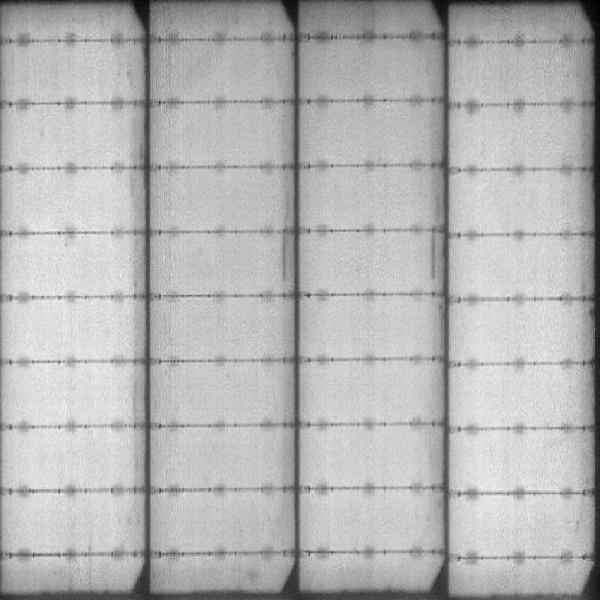scratch: (427, 234, 441, 280), (279, 235, 290, 284)
